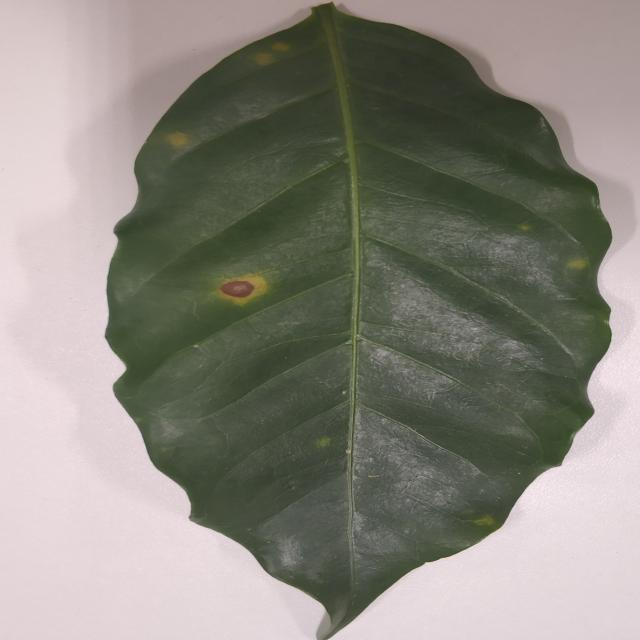Enfermedad-Roya: (103, 5, 614, 640)
